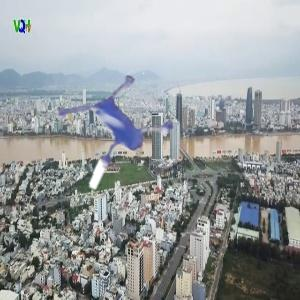drone: (26, 54, 191, 219)
